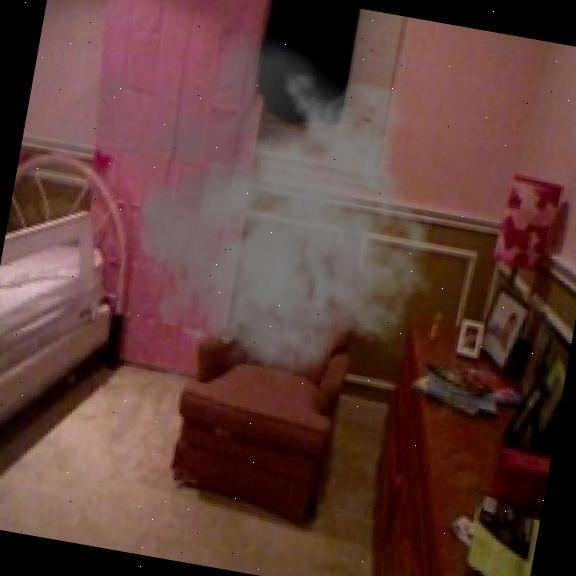smoke: (7, 0, 473, 419)
